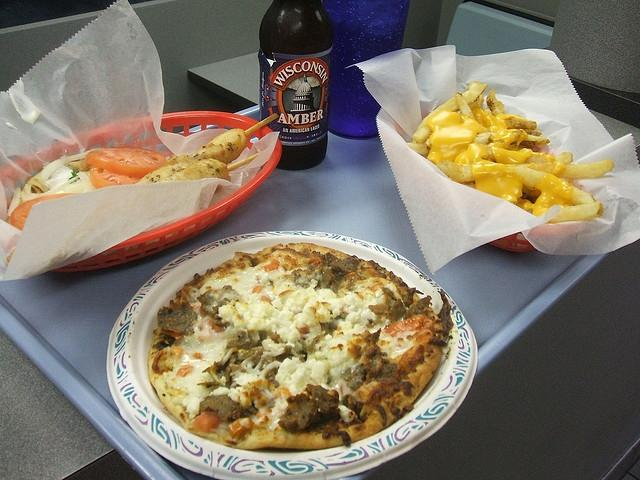tomato: (10, 192, 82, 230), (86, 146, 166, 177), (90, 166, 142, 189), (190, 411, 222, 433)
